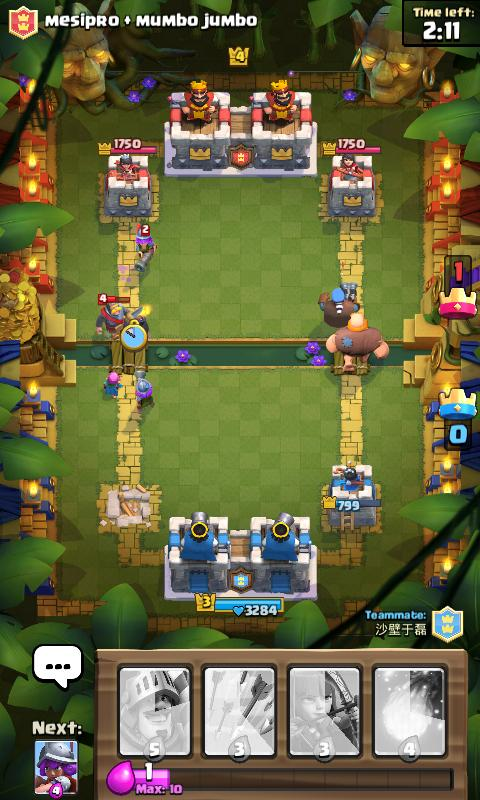ally_archer: (101, 370, 122, 396)
ally_giant: (324, 310, 389, 374)
ally_giant_bomb: (119, 304, 151, 352)
ally_hunter: (316, 281, 360, 328)
ally_musketeer: (132, 368, 155, 411)
enemy_musketeer: (94, 292, 141, 341), (131, 220, 158, 274)
